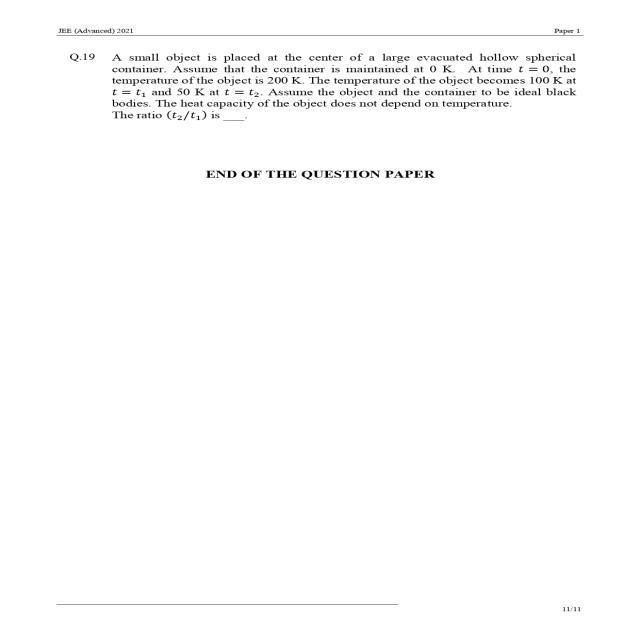Question_Answer_Block: (54, 46, 610, 140)
Question_Block: (54, 46, 610, 140)
Question_Paper_Area: (54, 45, 610, 515)
